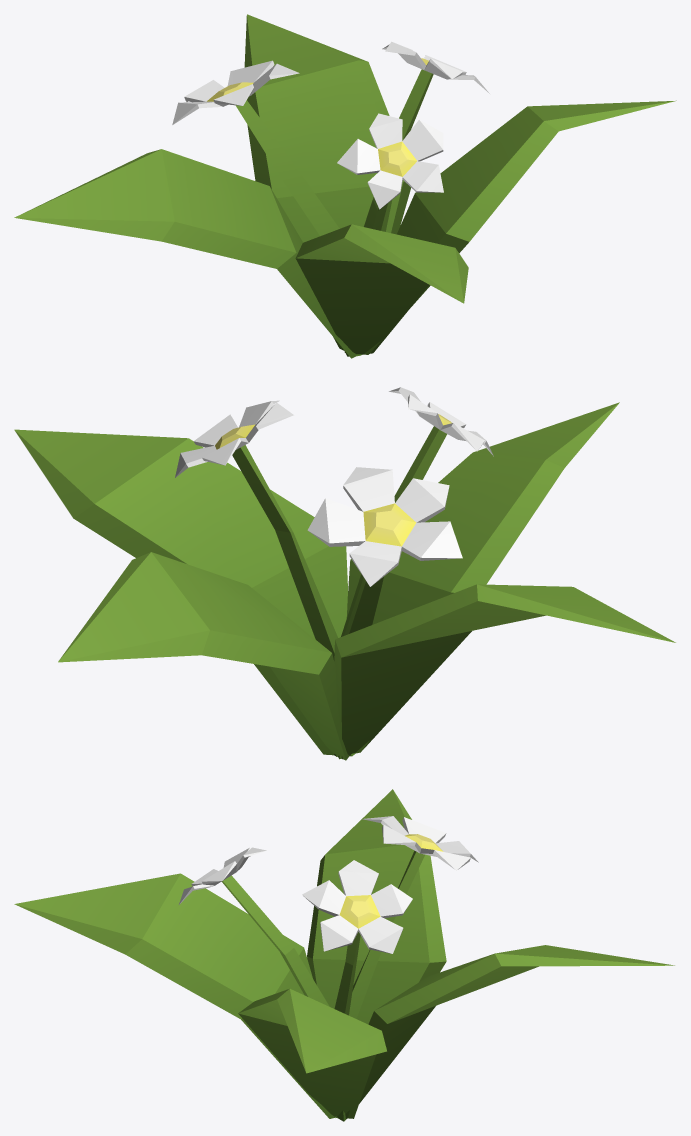
Rendered from Flower_bush_white.fbx.
3 views of the same model, one above another, from view 1: azimuth 30°, elevation 25°; view 2: azimuth 150°, elevation 25°; view 3: azimuth 270°, elevation 25° (orthographic). The views are drawn at different scales.
Parts seen in each view (by area): view 1: Flower_bush_white; view 2: Flower_bush_white; view 3: Flower_bush_white.
Part boxes in pixels (x1,y1,x2,y2): Flower_bush_white: [14, 14, 676, 358]; Flower_bush_white: [14, 387, 675, 760]; Flower_bush_white: [14, 789, 674, 1121].
Bounding box in the file's own units: 1.41 × 0.6249 × 1.39.
